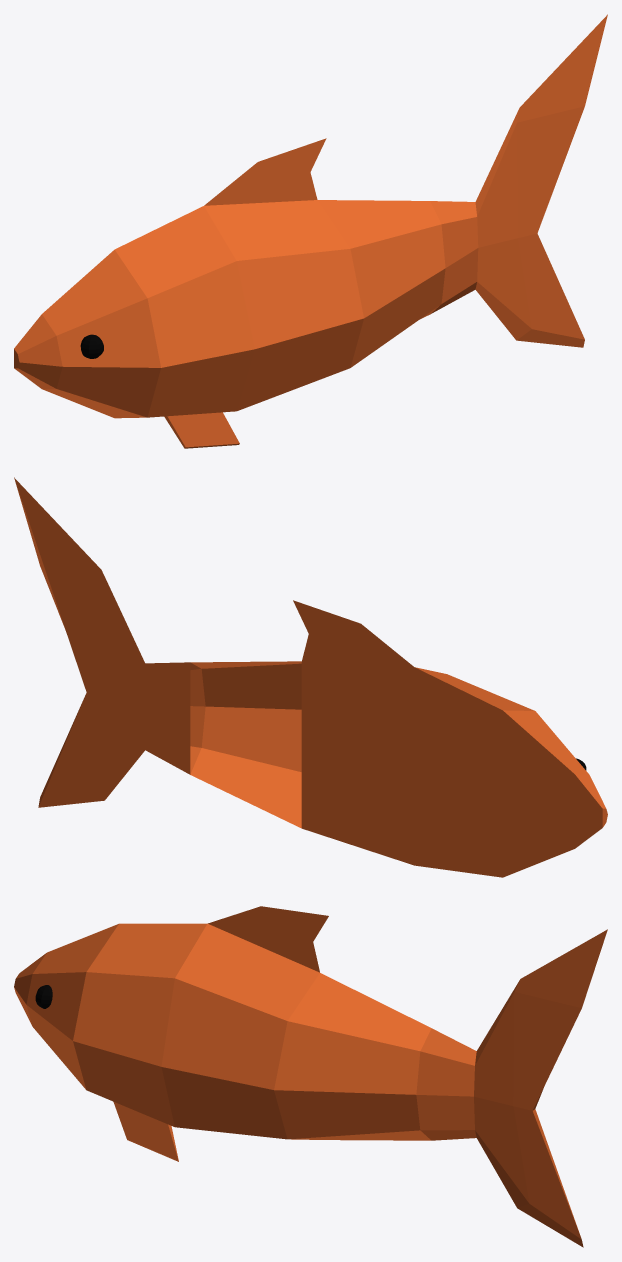
Rendered from Fish.glb.
3 renders of one model, top to bottom at view 1: azimuth 30°, elevation 25°; view 2: azimuth 150°, elevation 25°; view 3: azimuth 330°, elevation 25°, orthographic.
Visible parts, largest first — view 1: Circle; view 2: Circle; view 3: Circle.
Part boxes in pixels (left/top/right/bottom): Circle: left=14, top=14, right=607, bottom=448; Circle: left=14, top=477, right=607, bottom=877; Circle: left=14, top=906, right=607, bottom=1247.
Size of the model in its own units: 7.37 by 3.88 by 1.05.
